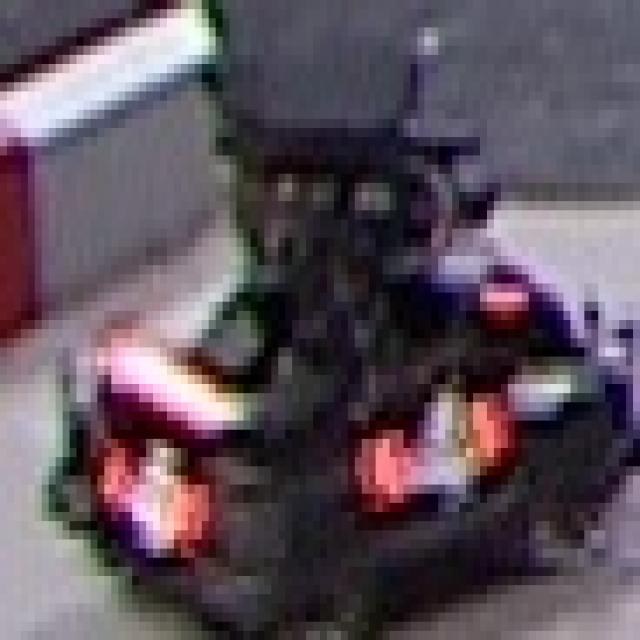R4: (341, 384, 529, 521), (76, 412, 208, 585)
